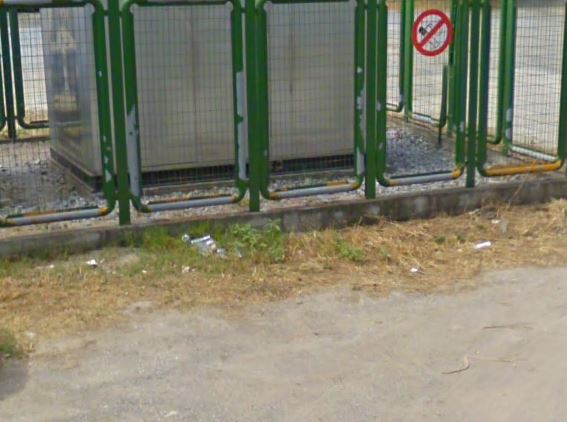trash: (175, 227, 235, 263), (77, 256, 111, 275), (468, 232, 495, 250), (405, 262, 422, 275)
